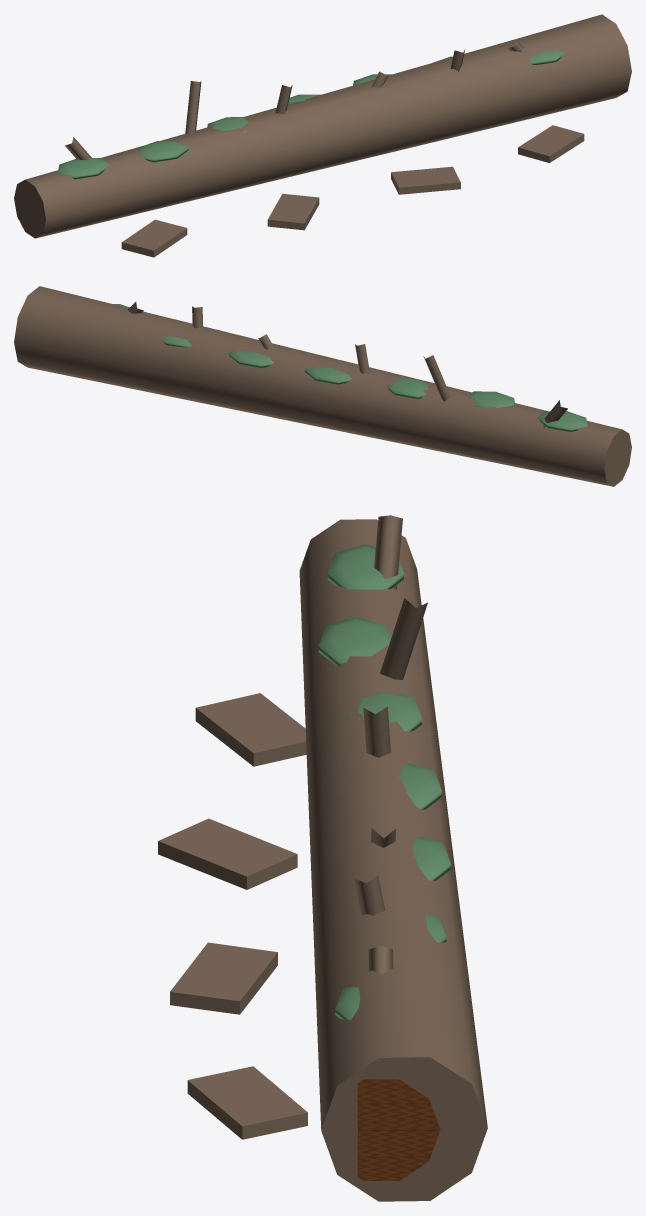
The model's file is deadwood.glb.
3 renders of one model, top to bottom at view 1: azimuth 30°, elevation 25°; view 2: azimuth 150°, elevation 25°; view 3: azimuth 270°, elevation 25°, orthographic. The views are drawn at different scales.
Visible parts, largest first — view 1: fallen-log; view 2: fallen-log; view 3: fallen-log.
Boxes of the visible parts, x1,y1,x2,y2 form: fallen-log: [14, 14, 631, 257]; fallen-log: [14, 286, 631, 486]; fallen-log: [158, 515, 487, 1201].
Size of the model in its own units: 5.42 by 0.9793 by 1.35.
Materials: 3 (1 with a texture image).
